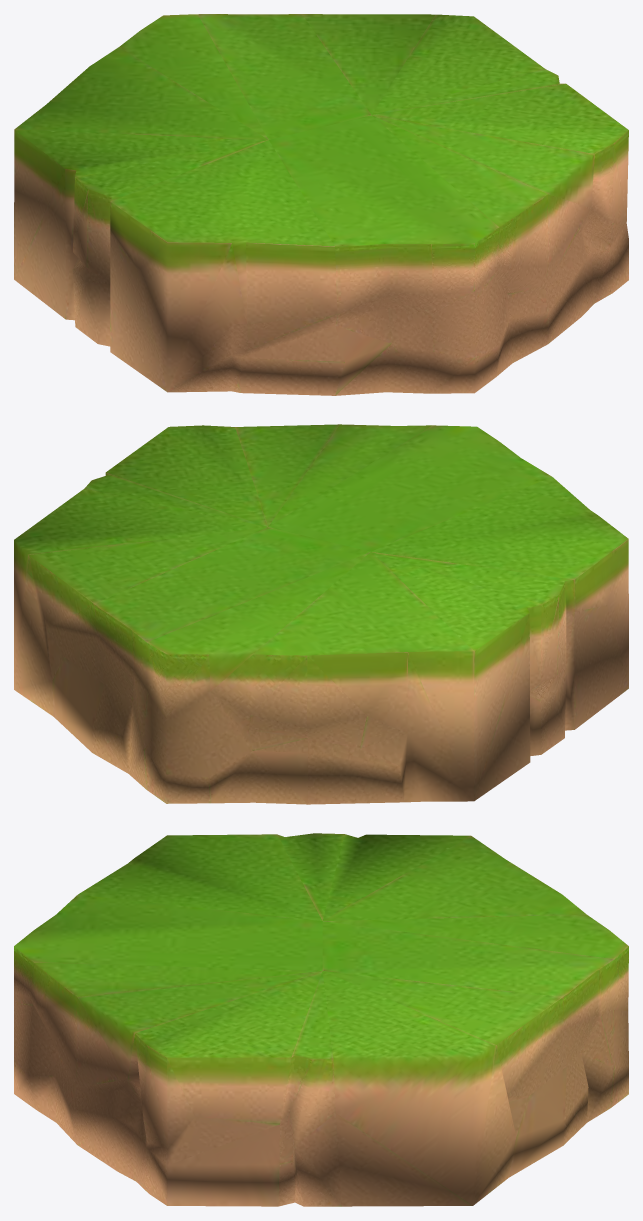
Rendered from tile-pasture.glb.
3 renders of one model, top to bottom at view 1: azimuth 30°, elevation 25°; view 2: azimuth 150°, elevation 25°; view 3: azimuth 270°, elevation 25°, orthographic.
Bounding box in the file's own units: 0.8344 × 0.2568 × 0.9575.
1 material, 1 textured.
